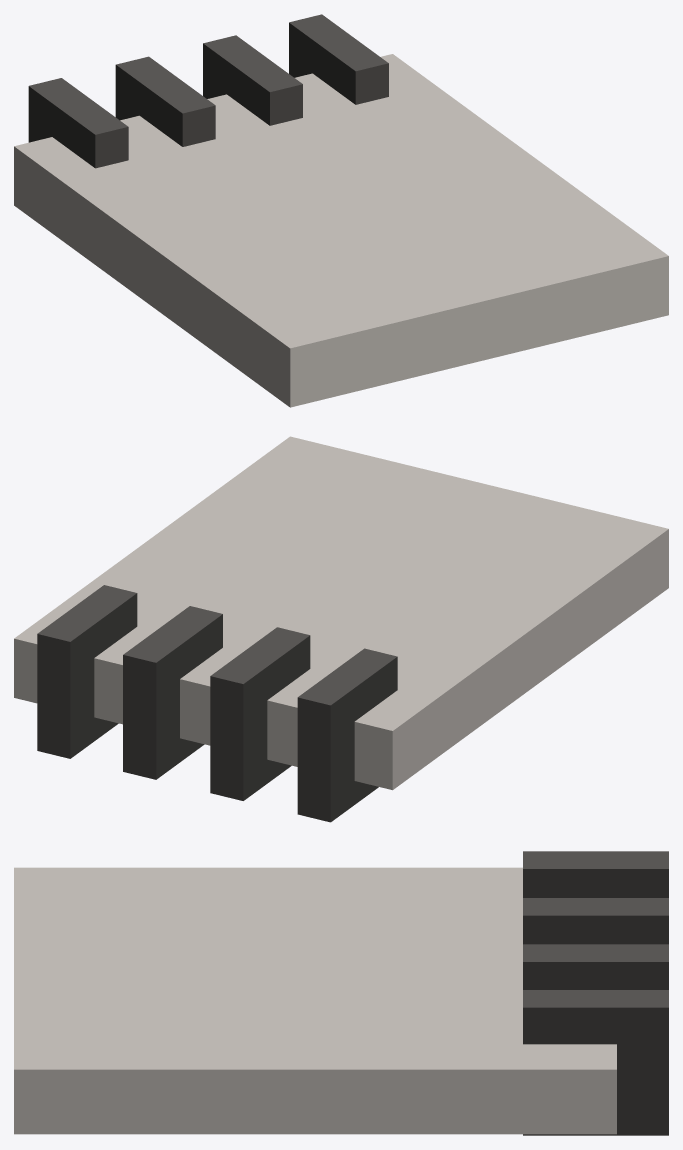
Rendered from SO_Notepad_02.fbx.
3 renders of one model, top to bottom at view 1: azimuth 30°, elevation 25°; view 2: azimuth 150°, elevation 25°; view 3: azimuth 270°, elevation 25°, orthographic. The views are drawn at different scales.
Visible parts, largest first — view 1: SO_Notepad_02; view 2: SO_Notepad_02; view 3: SO_Notepad_02.
Boxes of the visible parts, <box> form: SO_Notepad_02: <box>14,14,668,407</box>; SO_Notepad_02: <box>14,436,668,822</box>; SO_Notepad_02: <box>14,851,668,1135</box>.
Bounding box in the file's own units: 0.3308 × 0.0977 × 0.4537.
